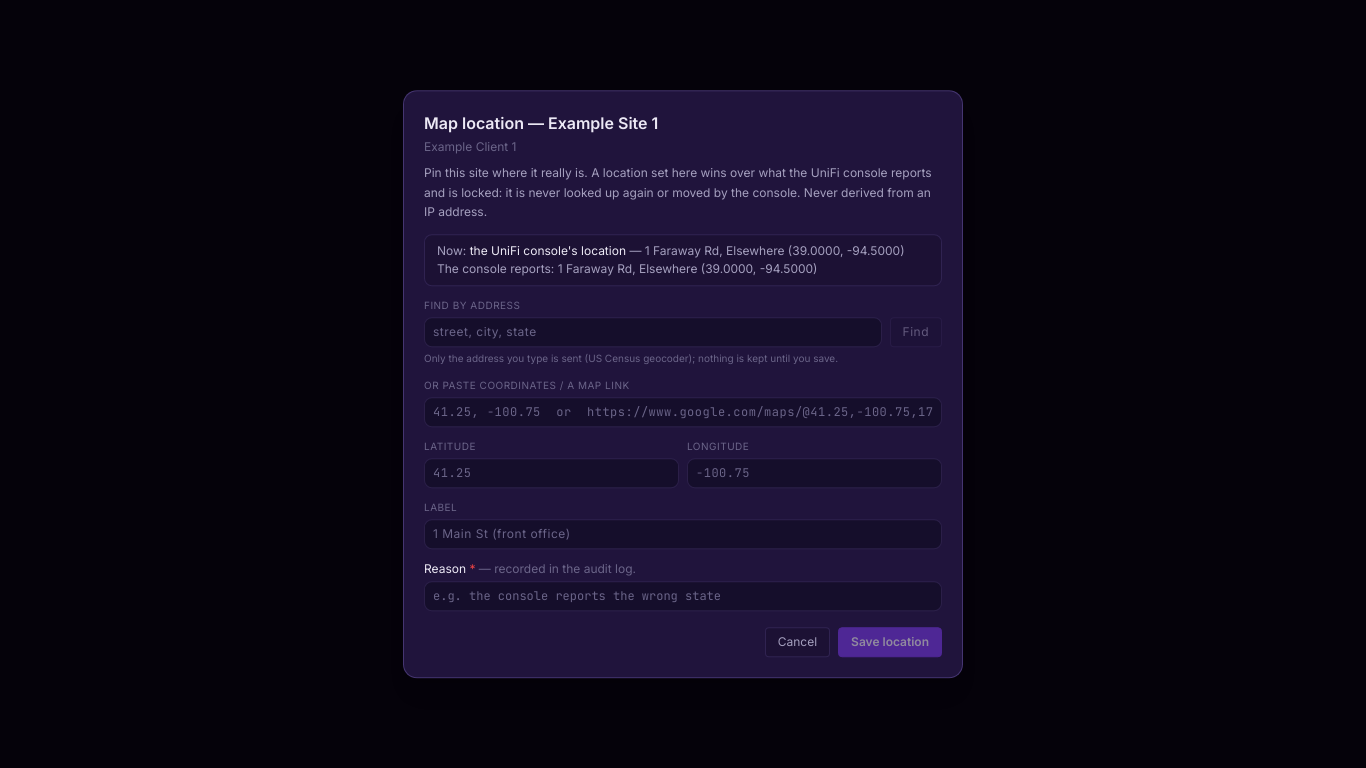
site location dialog › no match and a lookup error are said plainly
Expected: the button with test id "site-loc-find" is shown, [890,317,942,347]
Step 1. Type "1 Nowhere Lane" into the field labelled "address" → (653, 332), box [424,317,882,347]
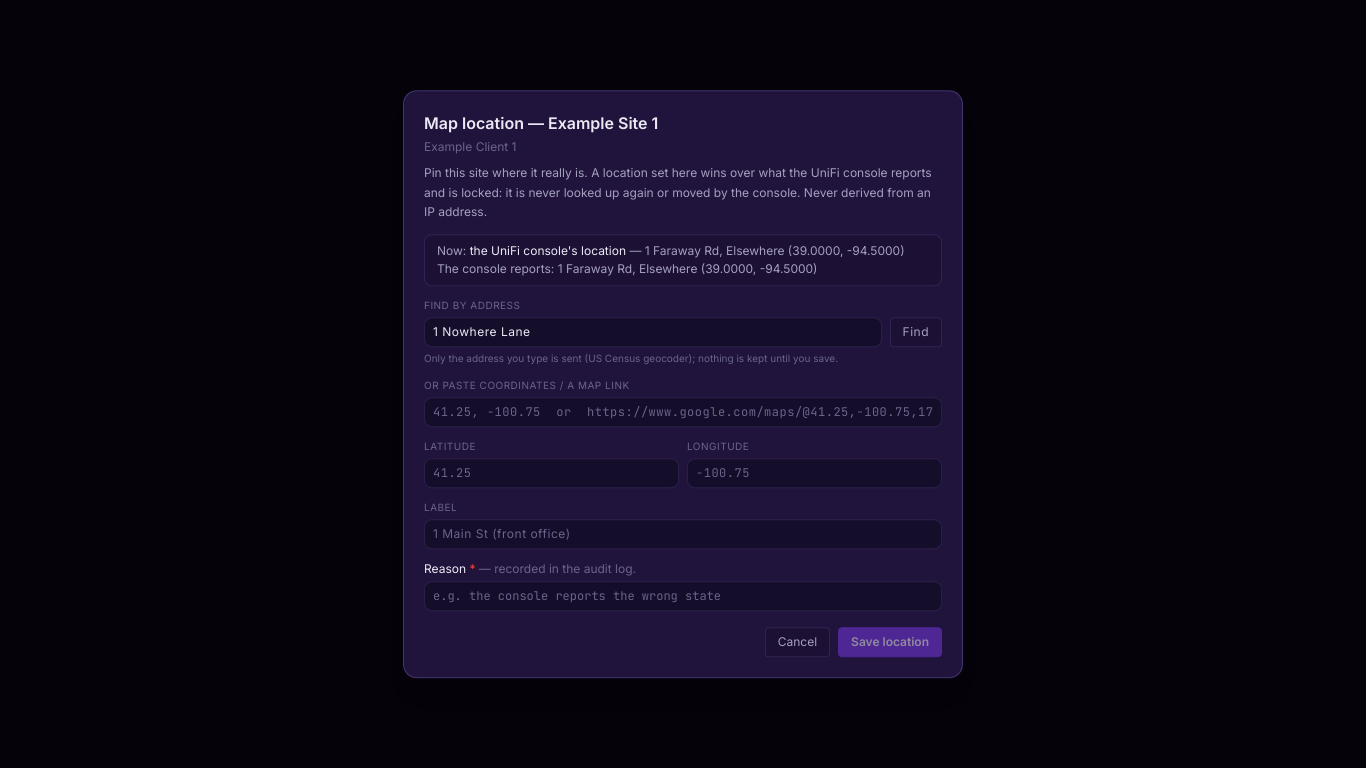
Step 2. Click the button with test id "site-loc-find" → (916, 332), box [890,317,942,347]
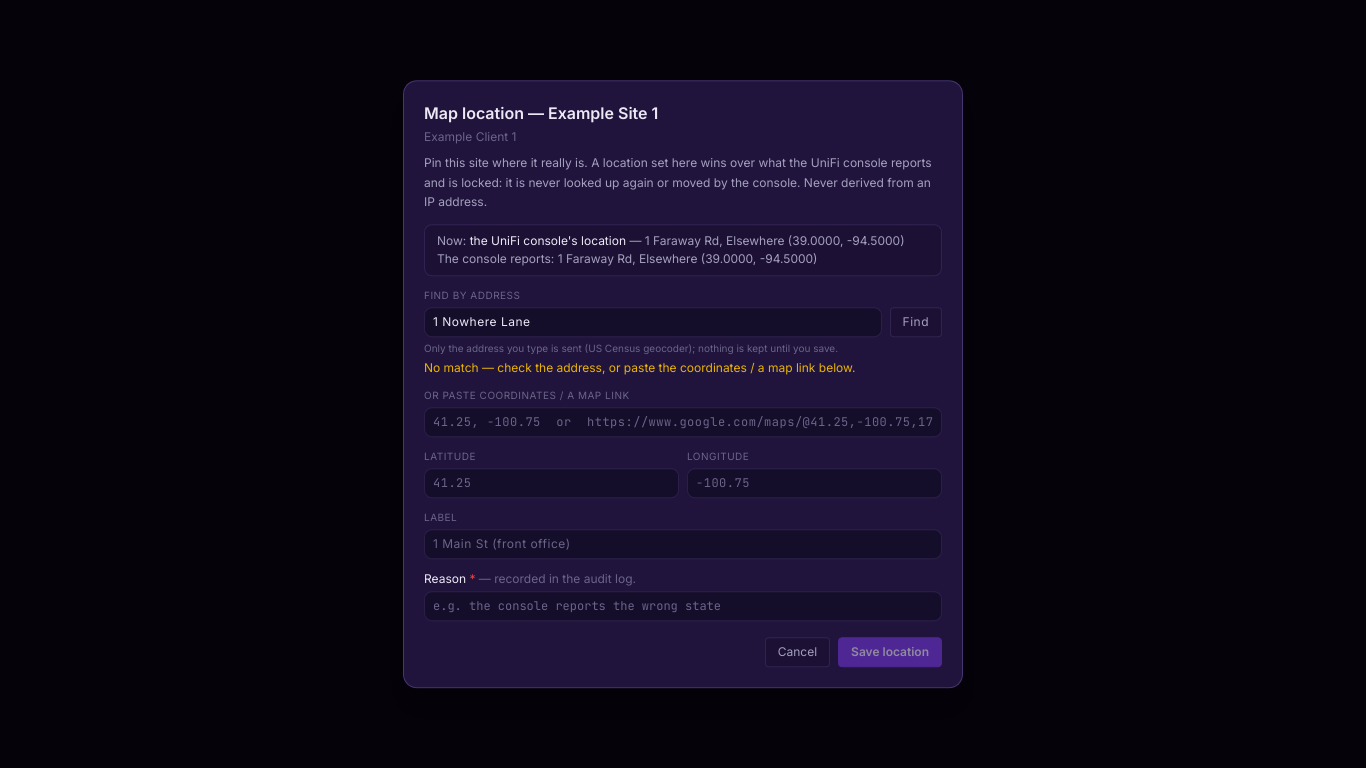
Result: the text with test id "site-loc-no-match" is shown at [424,360,855,375]
Step 3. Click the button with test id "site-loc-find" → (916, 322), box [890,307,942,337]
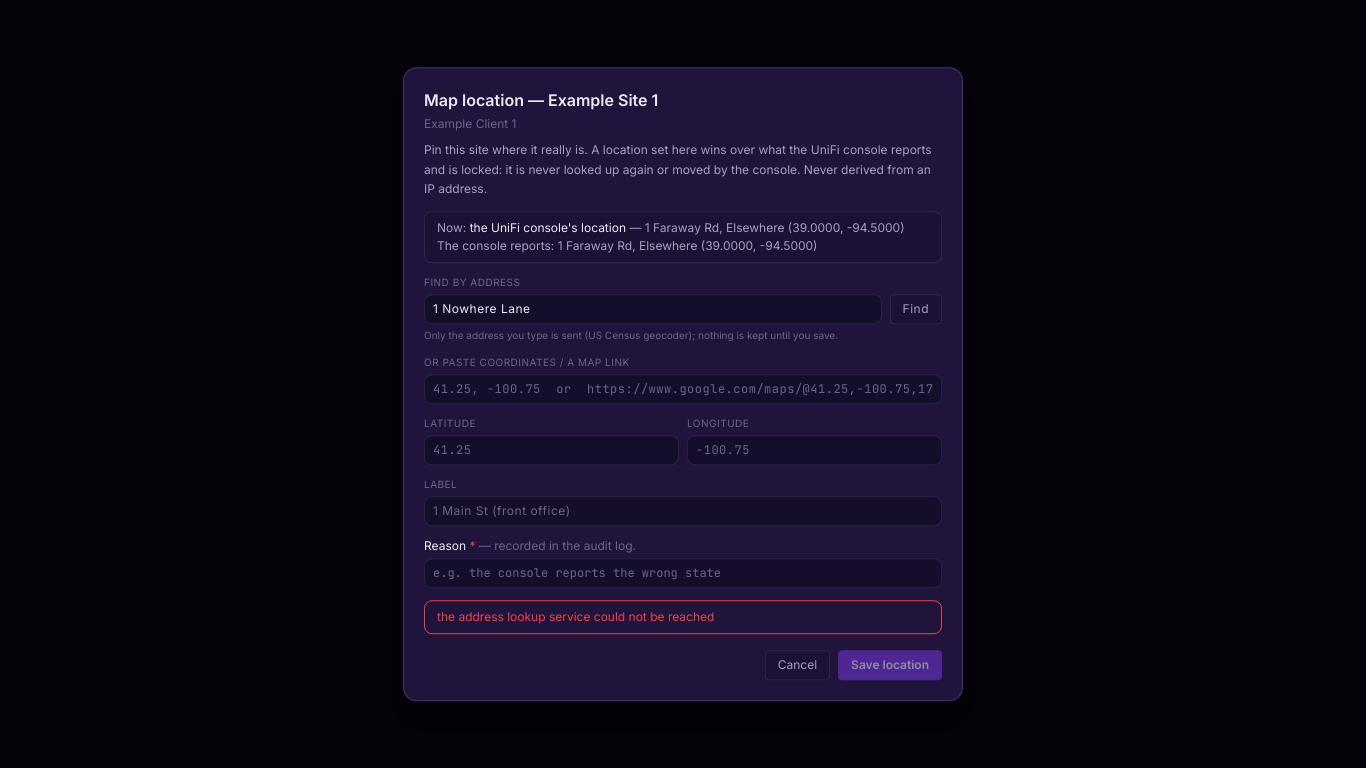
Result: the message shows "could not be reached" at [437,609,714,624]
